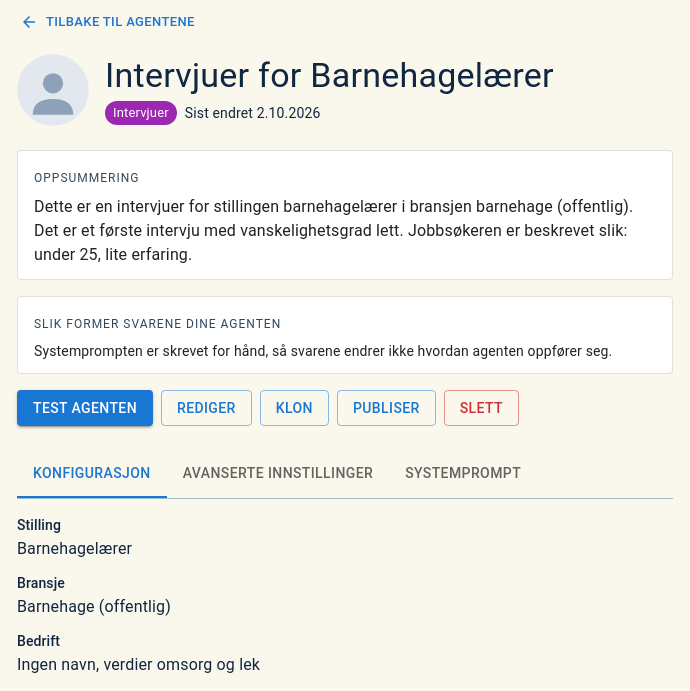
Test: AgentDetail › marks a hand-written system prompt
The image size is (690, 691).
Click the tab "Systemprompt". click: (463, 474)
box: [389, 450, 537, 498]
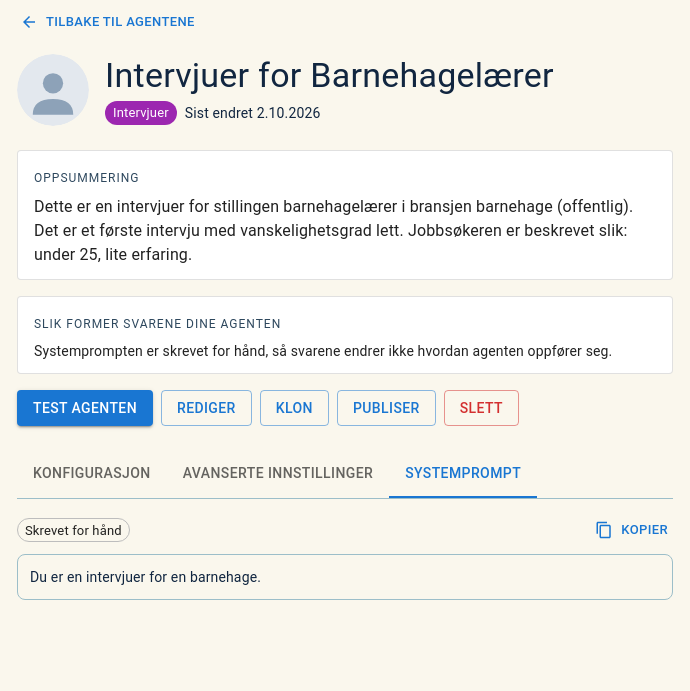
Expected: the text "Skrevet for hånd" is shown, [18, 521, 129, 540]
